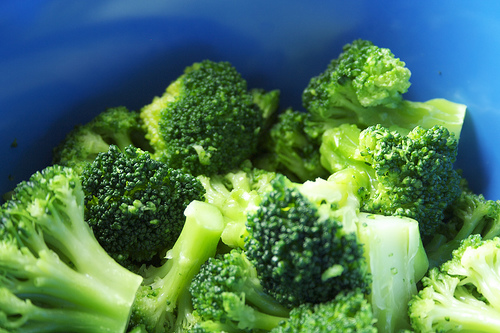broccoli: (0, 163, 144, 332), (141, 55, 268, 167), (240, 177, 352, 297), (300, 37, 414, 127)
